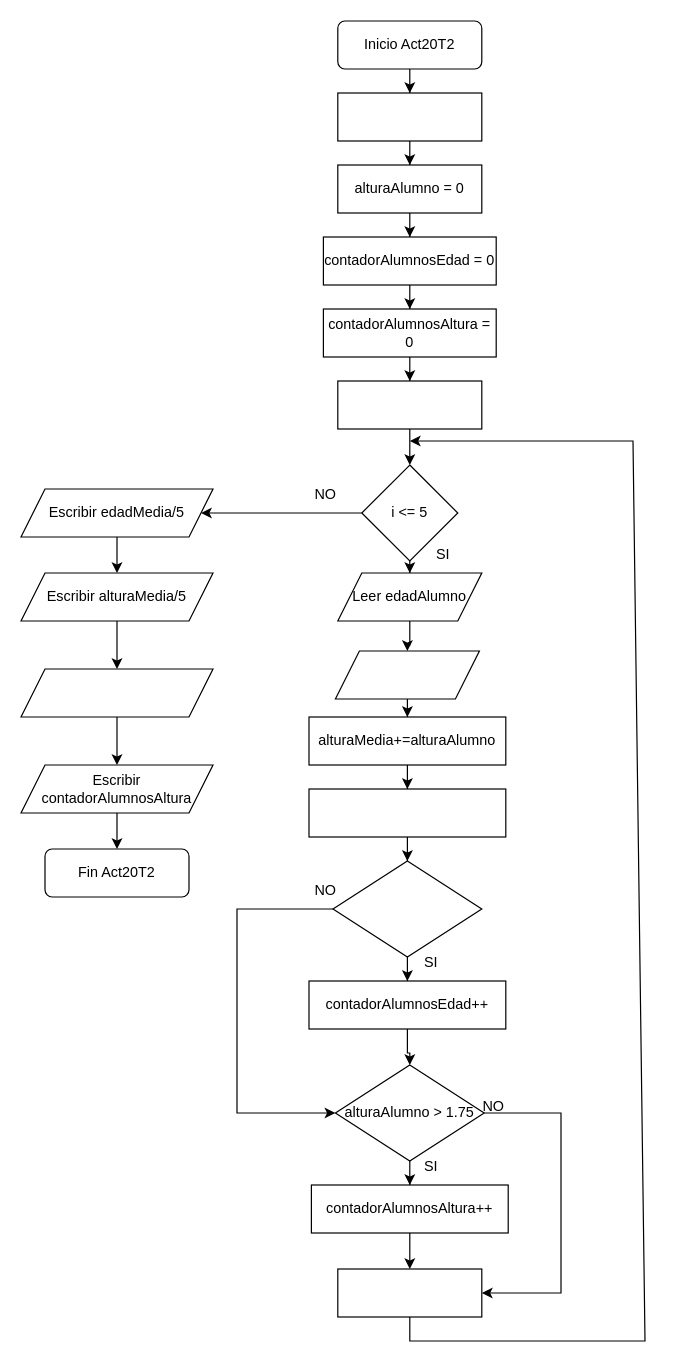
The diagram is 676 pixels wide and 1372 high, and some of its shapes have lost their labels. Each missing label, with the centre of its shape:
"edadAlumno = 0" belongs at (409,116).
"edadAlumno > 18" belongs at (407,908).
"edadMedia+=edadAlumno" belongs at (407,812).
"Escribir contadorAlumnosEdad" belongs at (116,692).
"i++" belongs at (409,1292).
"i=1" belongs at (409,404).
"Leer alturaAlumno" belongs at (406,674).
